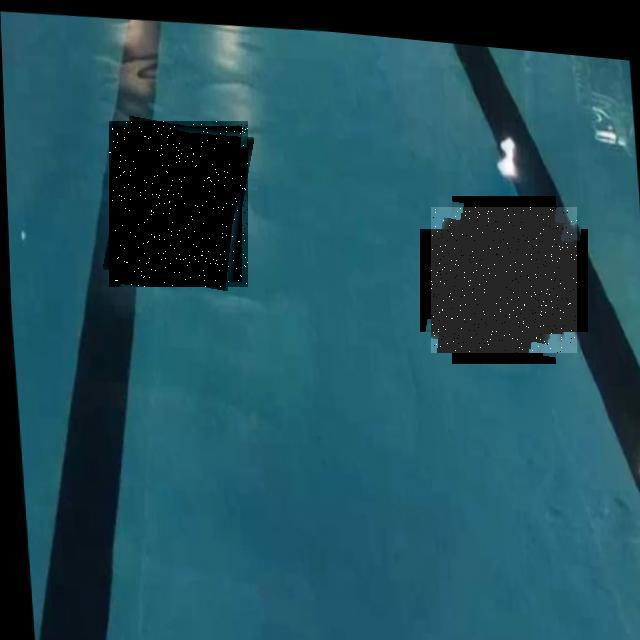swimming: (109, 121, 248, 287), (431, 207, 577, 353)
